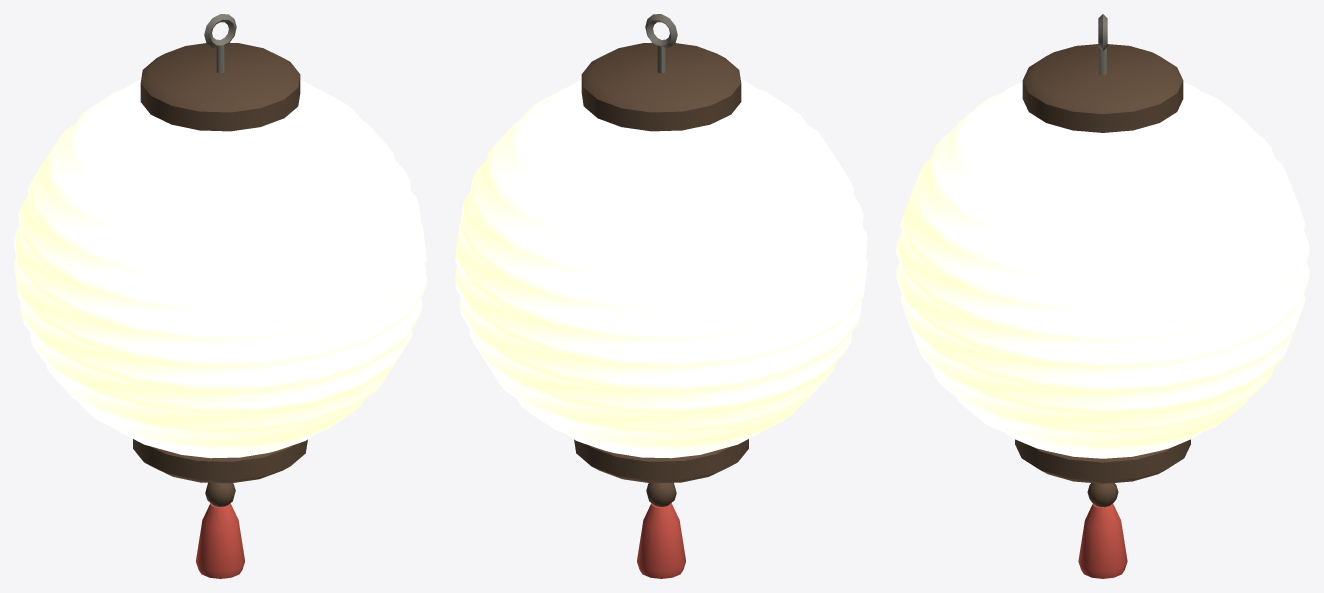
File: paper_lantern.glb
3 views of the same model, side by side, from view 1: azimuth 30°, elevation 25°; view 2: azimuth 150°, elevation 25°; view 3: azimuth 270°, elevation 25° (orthographic).
Visible parts, largest first — view 1: paper_lantern; view 2: paper_lantern; view 3: paper_lantern.
Part boxes in pixels (x1=…): paper_lantern: x1=14, y1=14, x2=426, y2=578; paper_lantern: x1=455, y1=14, x2=867, y2=578; paper_lantern: x1=896, y1=14, x2=1309, y2=578.
Size of the model in its own units: 0.3196 by 0.472 by 0.3196.
